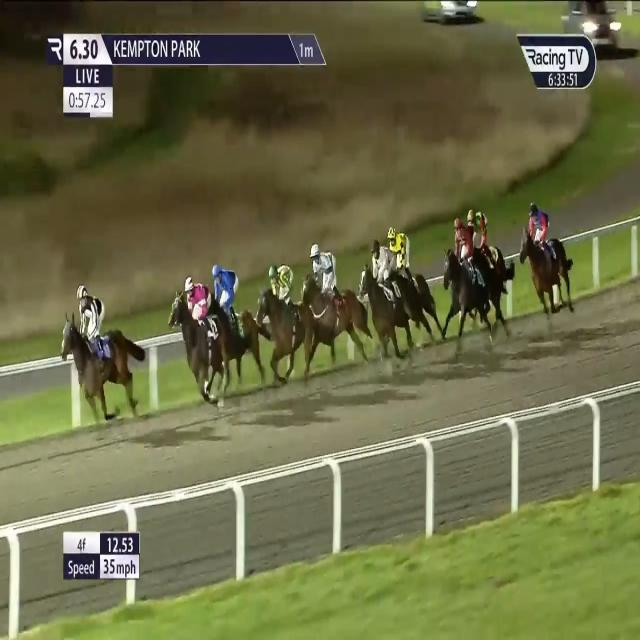horses-racing: (63, 282, 145, 421), (294, 236, 369, 360), (208, 259, 267, 386), (170, 276, 232, 394), (255, 266, 322, 369), (386, 225, 448, 332), (362, 238, 416, 360), (520, 200, 577, 315), (467, 205, 522, 324), (444, 213, 494, 343)
